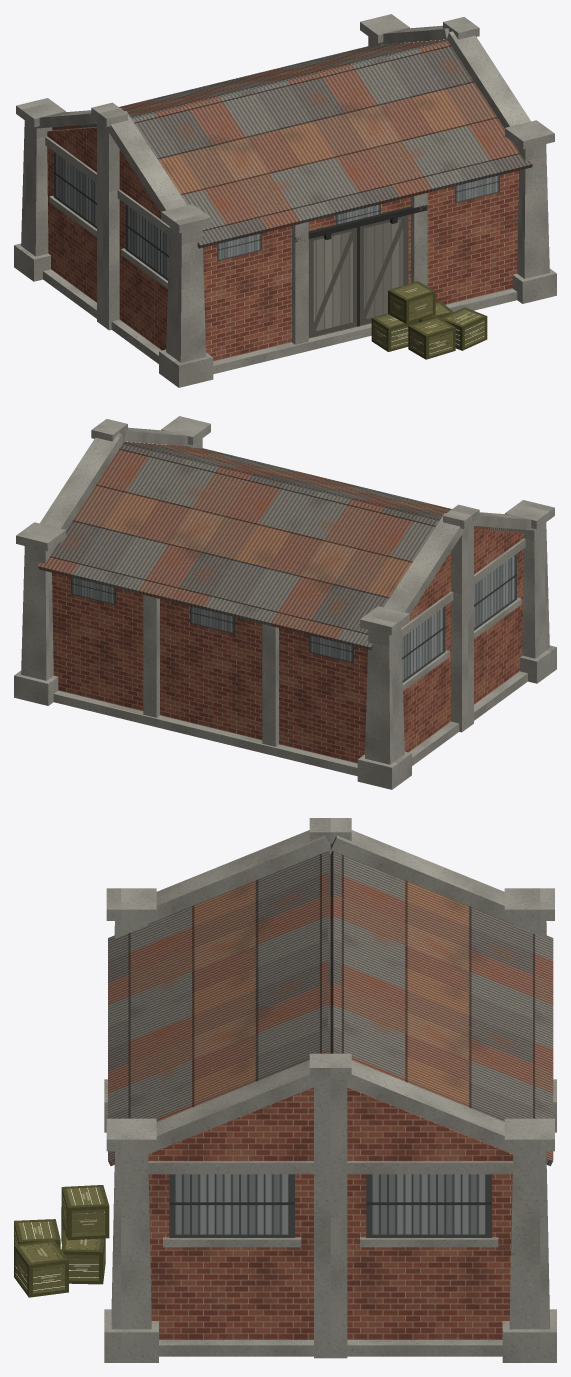
Rendered from warehouse.glb.
The picture shows the model from 3 angles, top to bottom: view 1: azimuth 30°, elevation 25°; view 2: azimuth 150°, elevation 25°; view 3: azimuth 270°, elevation 25°; orthographic projection. The views are drawn at different scales.
Visible parts, largest first — view 1: toit_pan_avant, murs, pilier_angle (×3), porte, rampant (×4), fenetre (×5), caisse (×4), toit_pan_arriere, socle, pilier_milieu, pilier_tete (×4), pilastre (×2) (+5 smaller); view 2: toit_pan_arriere, murs, pilier_angle (×3), rampant (×4), fenetre (×5), socle, toit_pan_avant, pilier_milieu, pilastre (×2), pilier_tete (×4), pilier_semelle (×3), toit_pignon_b (+2 smaller); view 3: toit_pan_arriere, toit_pan_avant, murs, rampant (×4), fenetre (×2), toit_pignon_a, pilier_angle (×2), pilier_milieu, caisse (×4), pilier_tete (×4), socle, bandeau (+3 smaller).
Boxes of the visible parts, x1,y1,x2,y2 form: toit_pan_avant: (132, 42, 532, 248); murs: (47, 147, 518, 361); pilier_angle (×3): (21, 120, 549, 362); porte: (308, 215, 408, 338); rampant (×4): (29, 25, 530, 234); fenetre (×5): (54, 152, 499, 280); caisse (×4): (371, 281, 487, 359); toit_pan_arriere: (52, 39, 447, 130); socle: (43, 269, 517, 374); pilier_milieu: (97, 120, 119, 330); pilier_tete (×4): (16, 14, 554, 233); pilastre (×2): (292, 193, 427, 344); toit_pan_arriere: (38, 444, 438, 650); murs: (52, 549, 523, 763); pilier_angle (×3): (21, 522, 549, 764); rampant (×4): (40, 427, 541, 636); fenetre (×5): (71, 554, 516, 682); socle: (53, 671, 527, 776); toit_pan_avant: (123, 441, 518, 532); pilier_milieu: (451, 525, 473, 732); pilastre (×2): (143, 595, 278, 746); pilier_tete (×4): (16, 416, 554, 635); pilier_semelle (×3): (14, 645, 556, 789); toit_pignon_b: (410, 528, 523, 621); toit_pan_arriere: (330, 851, 553, 1166); toit_pan_avant: (108, 851, 330, 1165); murs: (148, 1174, 512, 1339); rampant (×4): (127, 830, 534, 1160); fenetre (×2): (169, 1174, 491, 1237); toit_pignon_a: (148, 1087, 512, 1161); pilier_angle (×2): (111, 1151, 549, 1329); pilier_milieu: (314, 1079, 347, 1358); caisse (×4): (14, 1185, 109, 1297); pilier_tete (×4): (106, 888, 554, 1151); socle: (159, 1340, 502, 1356); bandeau: (148, 1161, 512, 1174).
Size of the model in its own units: 2.86 by 1.54 by 2.59.
7 materials, 6 textured.
